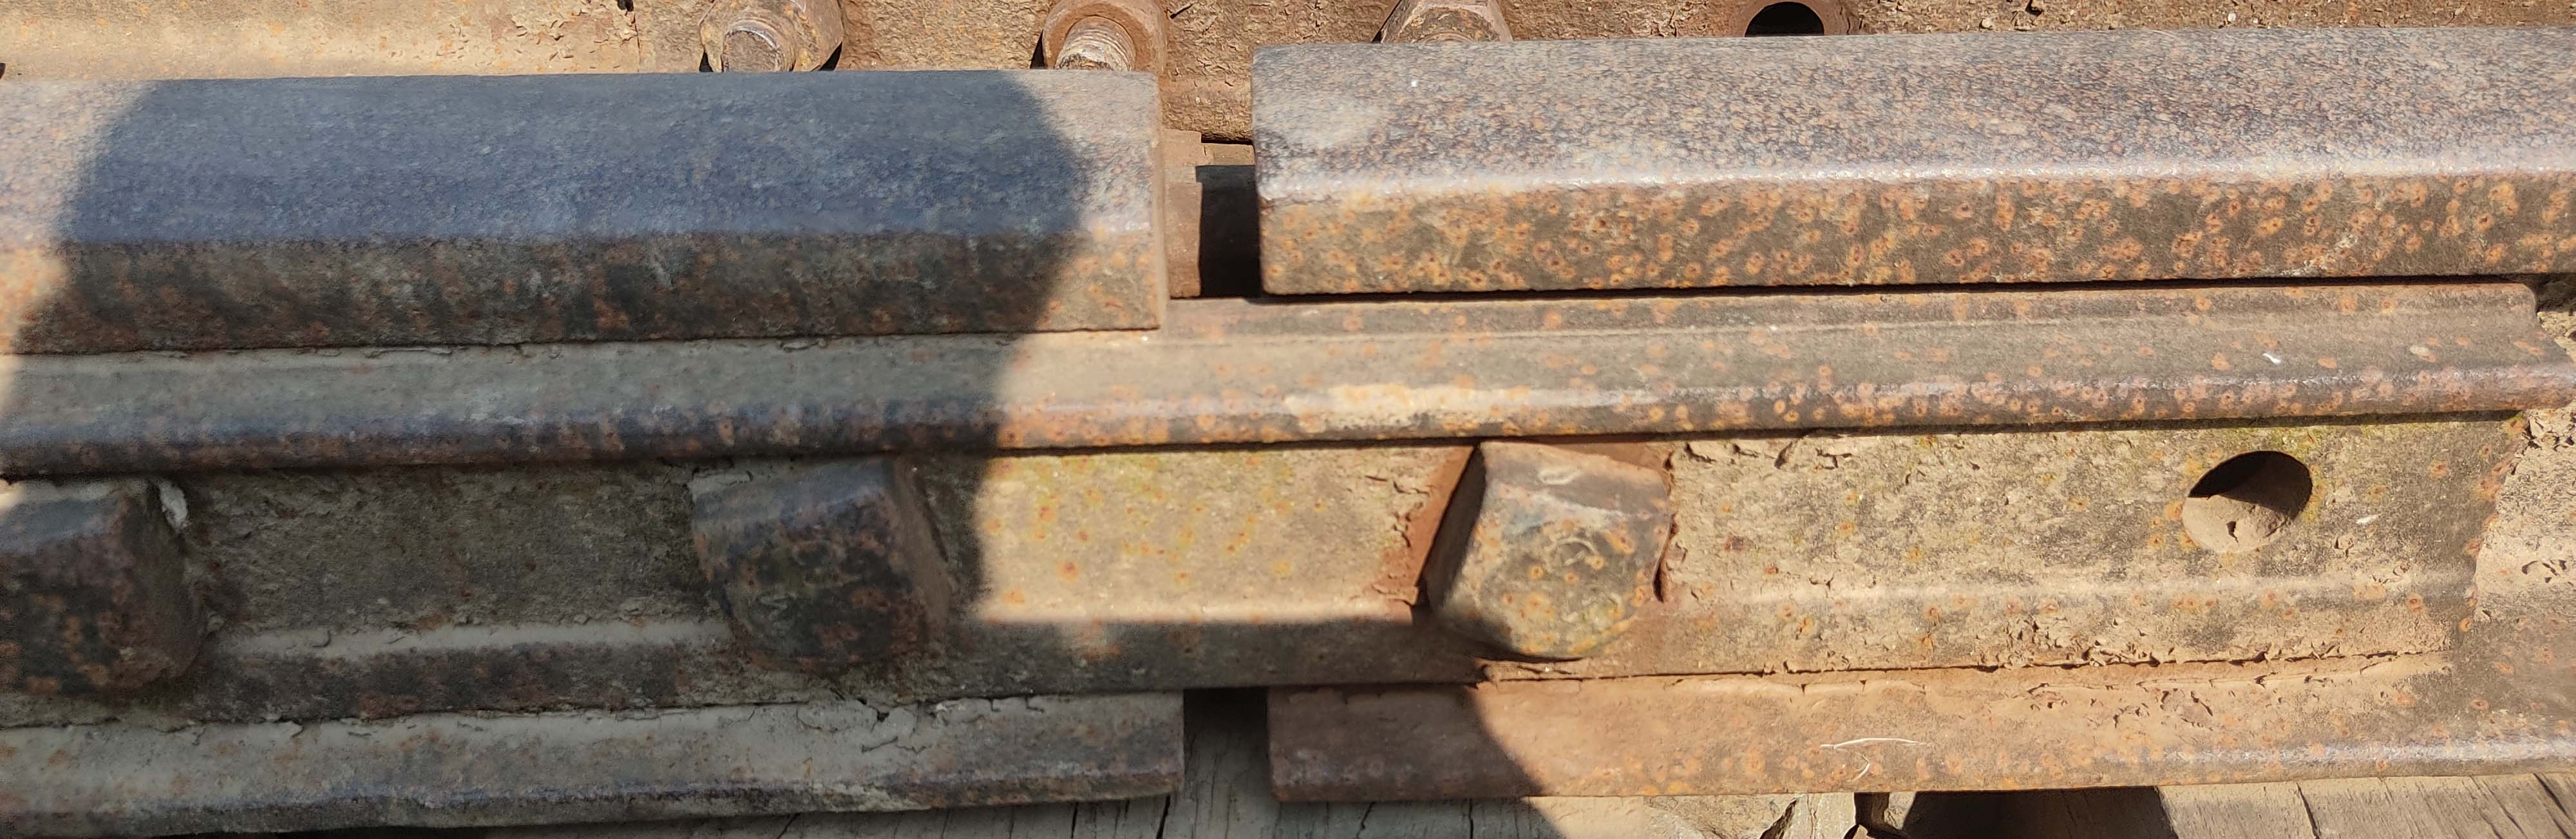error2: (1122, 41, 1314, 415)
